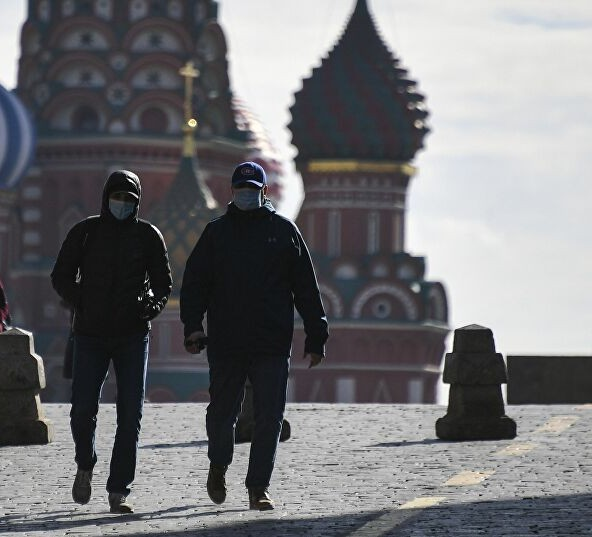with_mask: (221, 166, 274, 210), (100, 176, 144, 224)
